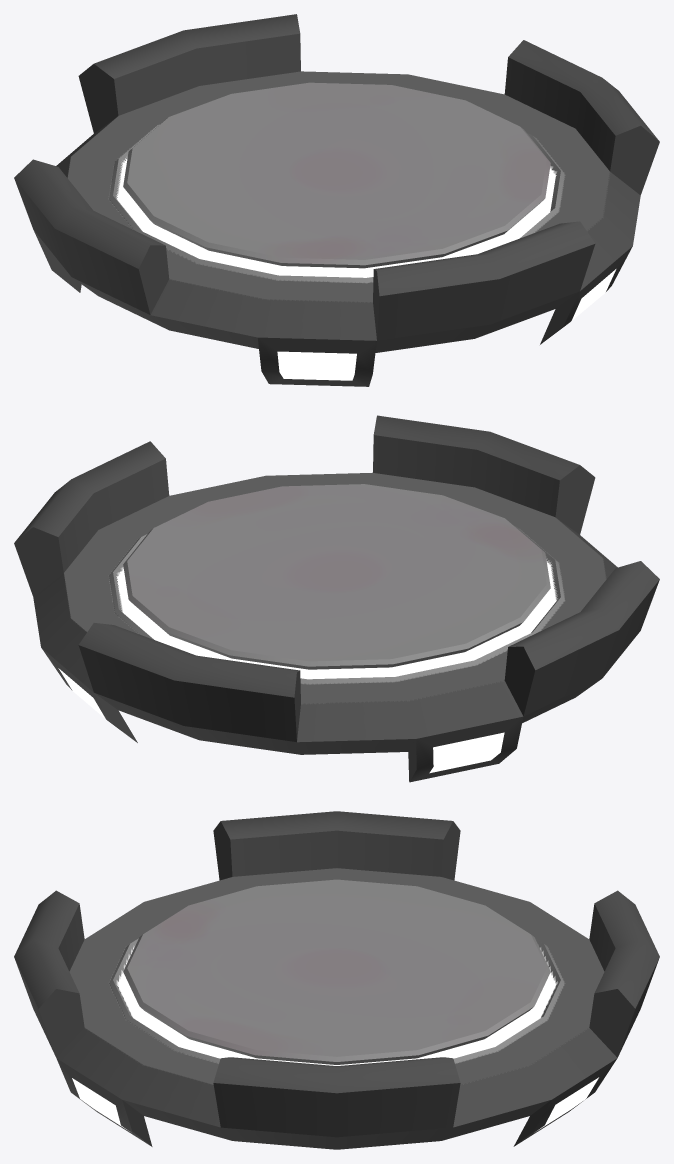
The model's file is PlatformDefault.fbx.
The picture shows the model from 3 angles, top to bottom: view 1: azimuth 30°, elevation 25°; view 2: azimuth 150°, elevation 25°; view 3: azimuth 270°, elevation 25°; orthographic projection.
Visible parts, largest first — view 1: PlatformDefault; view 2: PlatformDefault; view 3: PlatformDefault.
Part boxes in pixels (<box>): PlatformDefault: <box>14,14,659,386</box>; PlatformDefault: <box>14,415,659,782</box>; PlatformDefault: <box>14,811,659,1149</box>.
Size of the model in its own units: 240 by 76.01 by 240.
